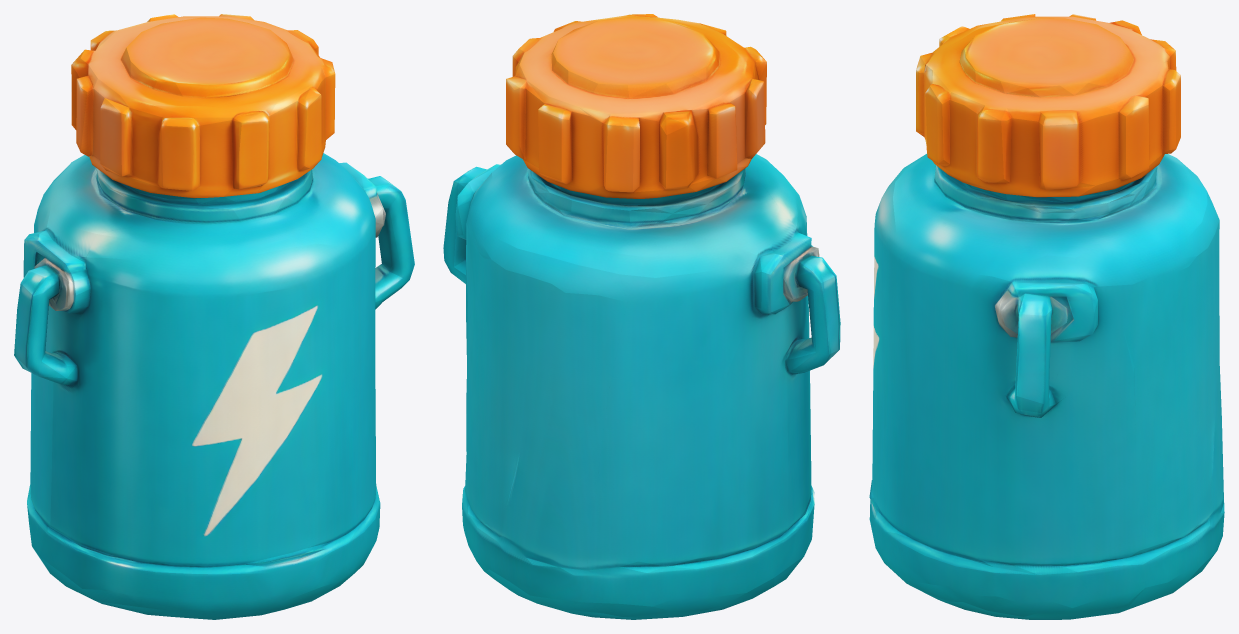
3 renders of one model, left to right at view 1: azimuth 30°, elevation 25°; view 2: azimuth 150°, elevation 25°; view 3: azimuth 270°, elevation 25°, orthographic.
Parts seen in each view (by area): view 1: model; view 2: model; view 3: model.
Part boxes in pixels (x1,y1,x2,y2): model: (14, 14, 414, 619); model: (443, 14, 840, 619); model: (869, 14, 1224, 619).
Size of the model in its own units: 1.51 by 1.89 by 1.19.
1 material, 1 textured.
